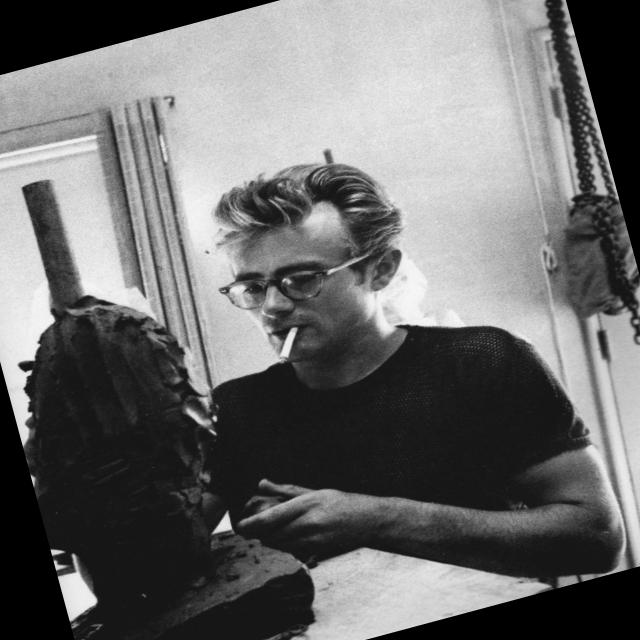smoke: (266, 322, 308, 364)
